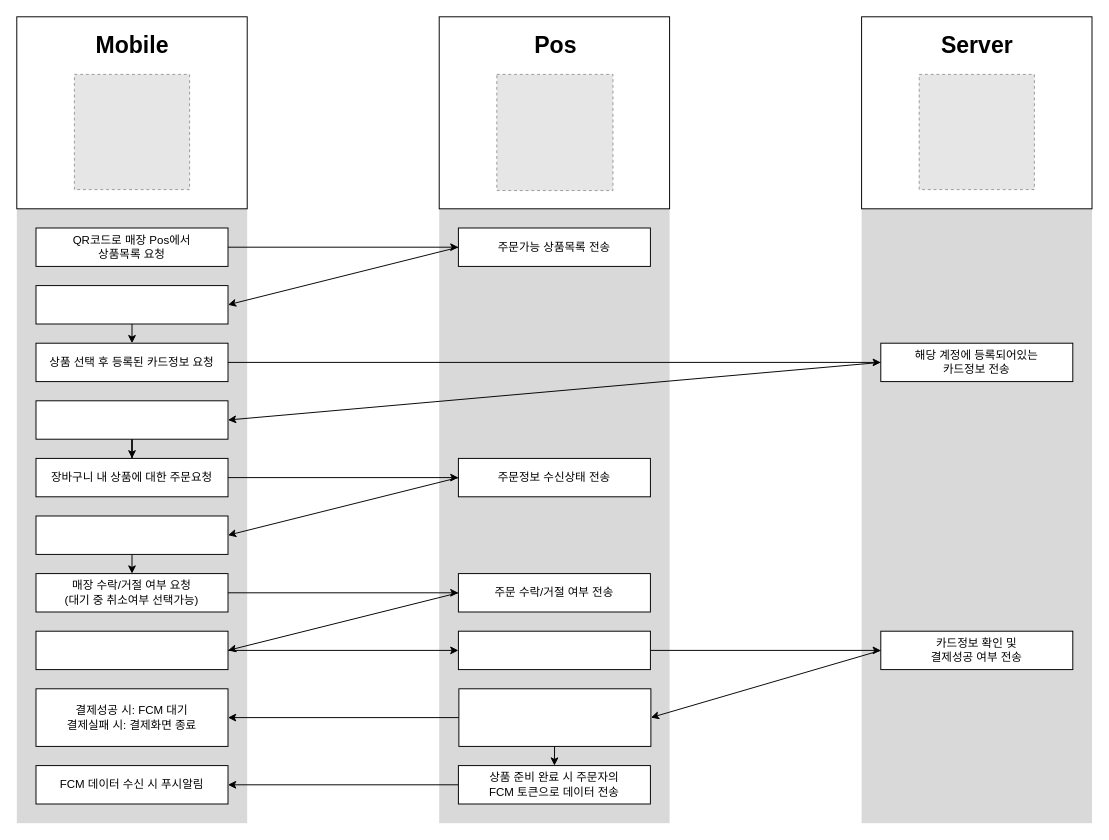
This 1109x840 diagram has some shape labels left out. Grey dashed boxes stand in for pictures. The centre of each missing label's shape, as x and y in pixels:
"결제성공 시: Pos에 주문내역 저장 후 결제결과 전송 결제실패 시: 결제결과 전송" belongs at [554,717].
"등록된 카드정보 표시" belongs at [131,419].
"서버로 결제요청 전송 주문 취소시: 주문종료" belongs at [553,650].
"주문 수락시: 취소여부 전송 주문 거절시: 주문화면 종료" belongs at [131,650].
"주문가능 상품목록 표시" belongs at [131,304].
"주문정보 수신상태 수신" belongs at [131,534].
